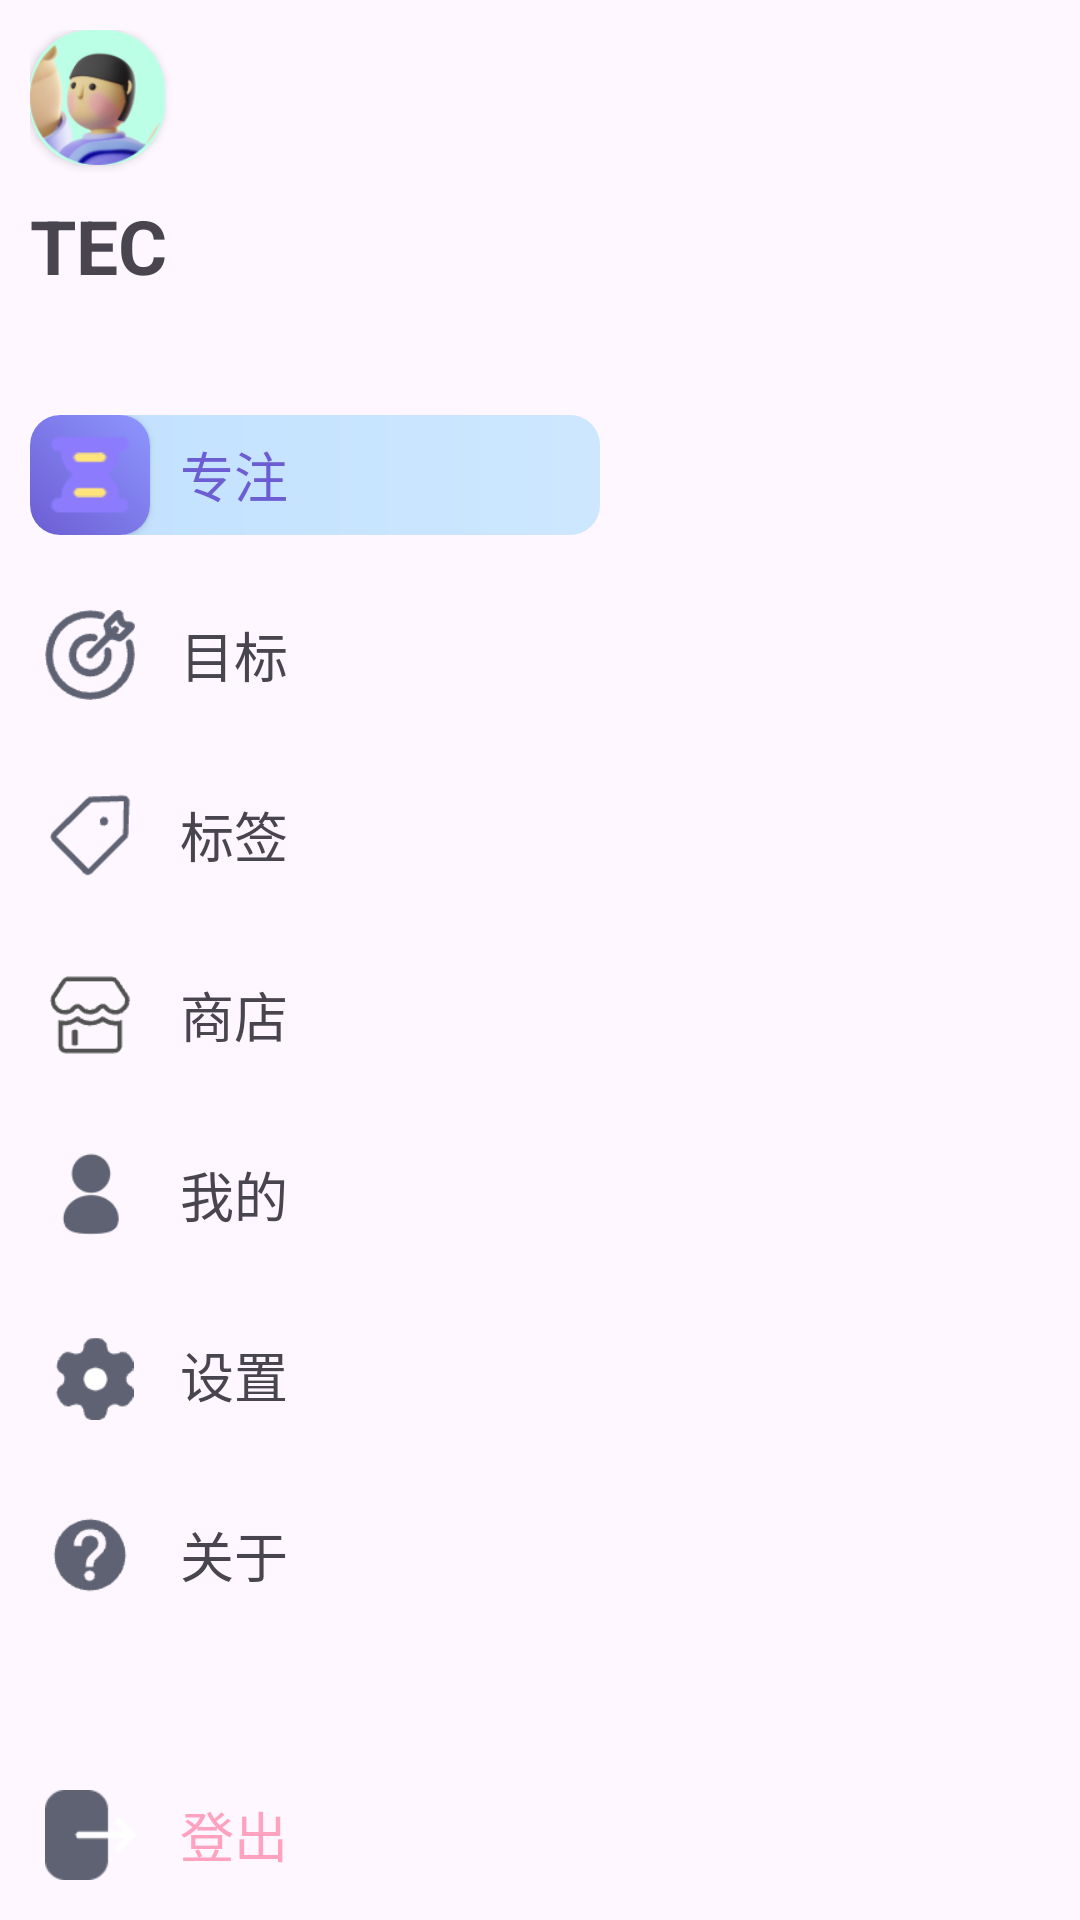

Icons on this 1080x1920 Android screen, each with its box as (x1, y1, x2, y2):
helpbefore: (54, 1519, 126, 1591)
settingbefore: (56, 1338, 134, 1420)
storebefore: (50, 976, 130, 1054)
tagbefore: (50, 795, 130, 875)
targetbefore: (45, 610, 135, 700)
userbefore: (63, 1154, 119, 1234)
